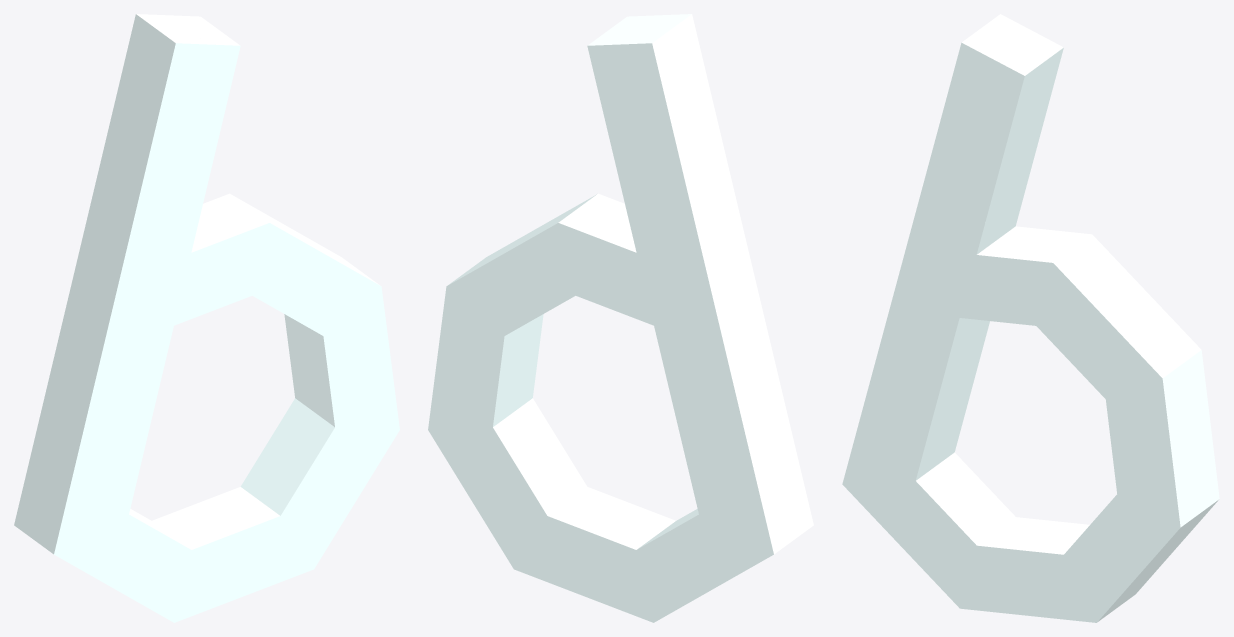
3 renders of one model, left to right at view 1: azimuth 30°, elevation 25°; view 2: azimuth 150°, elevation 25°; view 3: azimuth 330°, elevation 25°, orthographic. The views are drawn at different scales.
Visible parts, largest first — view 1: wall_1_1_1_103_109.001; view 2: wall_1_1_1_103_109.001; view 3: wall_1_1_1_103_109.001.
Part boxes in pixels (x1,y1,x2,y2): wall_1_1_1_103_109.001: (14,14,399,622); wall_1_1_1_103_109.001: (428,14,813,622); wall_1_1_1_103_109.001: (842,14,1219,622).
Bounding box in the file's own units: 3.52 × 5.63 × 0.7034.
